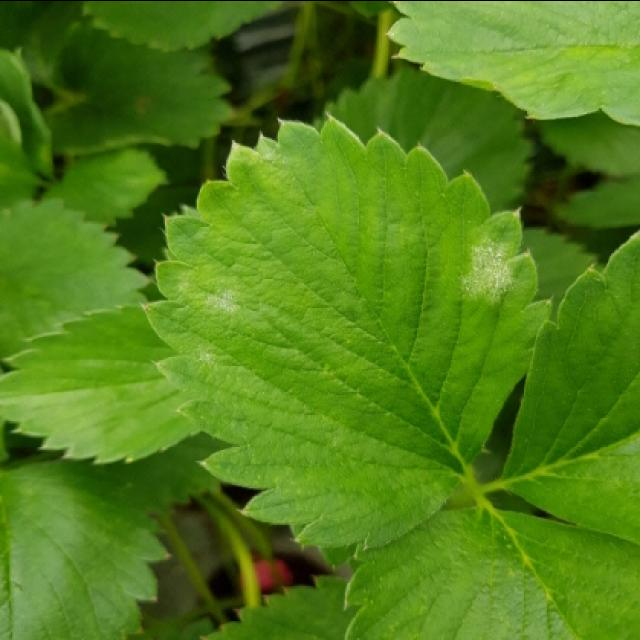Powdery Mildew Leaf: (141, 113, 553, 551)
